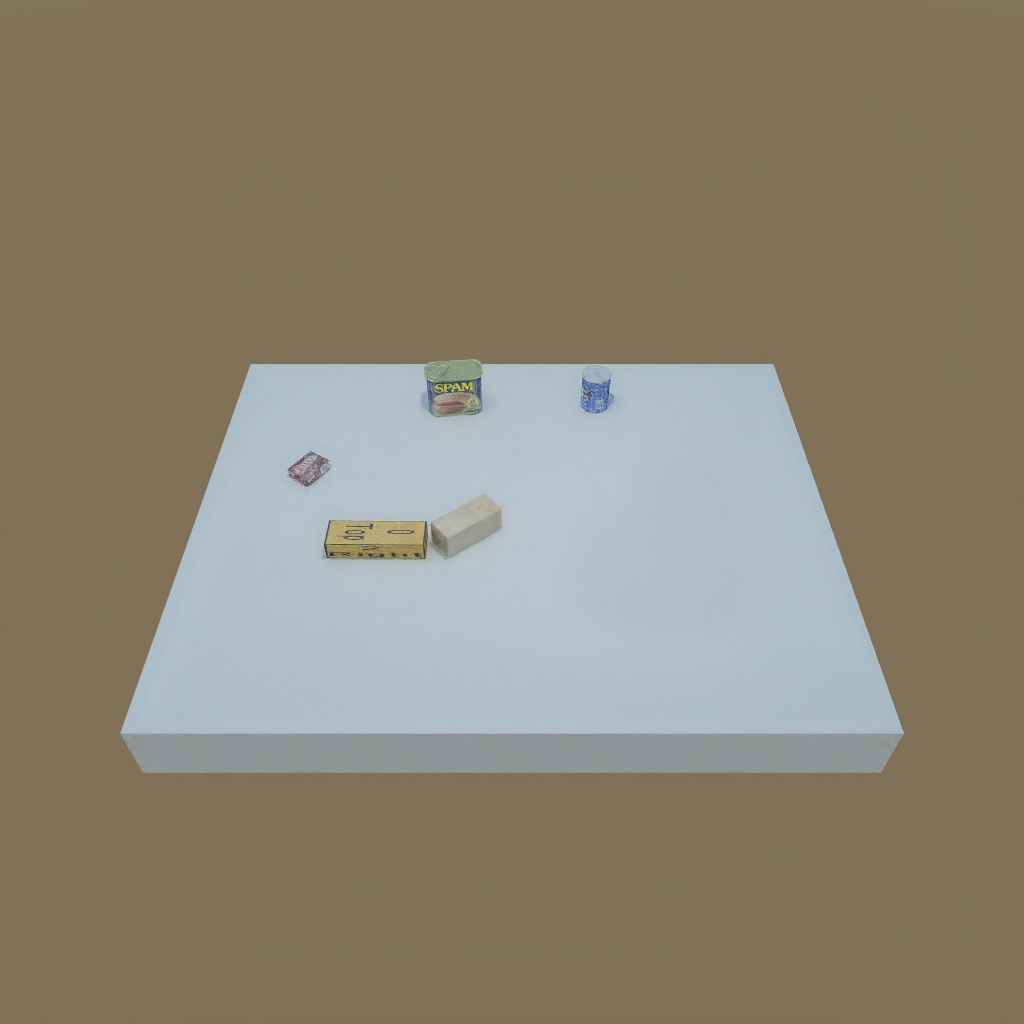jenga: (323, 508, 432, 561)
master_chef_can: (575, 361, 614, 418)
potted_meat_can: (420, 358, 485, 415)
pudding_box: (286, 449, 336, 489)
wood_block: (432, 501, 503, 556)
